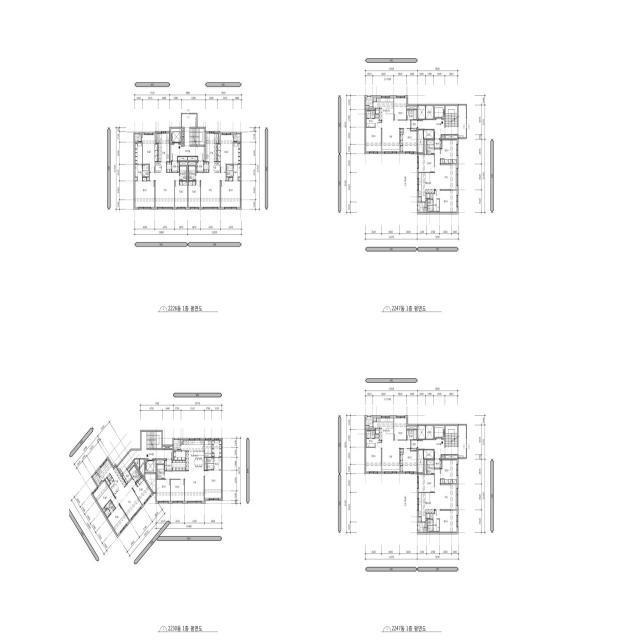space_balconi: (93, 472, 102, 486), (173, 439, 180, 450)
space_bedroom: (107, 504, 129, 535), (92, 481, 115, 509), (221, 177, 241, 208), (142, 134, 158, 172), (135, 177, 154, 208), (218, 134, 233, 172), (133, 477, 153, 505), (366, 438, 381, 472), (366, 118, 381, 152), (433, 511, 457, 532), (433, 191, 457, 212), (205, 470, 222, 499), (400, 449, 417, 472), (400, 129, 417, 152), (441, 460, 457, 483), (441, 140, 457, 163), (175, 181, 187, 208), (188, 181, 200, 208), (171, 480, 184, 502), (157, 480, 170, 502), (394, 417, 406, 440), (394, 97, 406, 120), (418, 475, 434, 492), (418, 155, 434, 172)
space_dressroom: (212, 439, 222, 457), (233, 143, 240, 164), (135, 143, 142, 164), (233, 165, 241, 181), (135, 165, 142, 181)
space_elevator: (171, 129, 181, 143), (145, 460, 156, 472), (434, 426, 444, 438), (434, 106, 444, 118)
space_elevator_hall: (171, 114, 205, 160), (118, 449, 172, 474), (418, 438, 457, 458), (418, 118, 457, 138)
space_front: (122, 470, 132, 484), (196, 161, 203, 172), (165, 460, 172, 471), (172, 161, 179, 172), (411, 440, 417, 450), (411, 120, 417, 130), (435, 460, 442, 468), (435, 140, 442, 148)
space_kitchen: (97, 459, 126, 497), (181, 439, 204, 471), (155, 132, 170, 173), (206, 132, 220, 173), (373, 417, 394, 440), (373, 97, 394, 120), (418, 493, 435, 521), (418, 173, 435, 201)
space_living_room: (112, 478, 142, 521), (165, 471, 205, 502), (196, 173, 226, 208), (150, 173, 179, 208), (382, 440, 410, 472), (382, 120, 410, 152), (435, 469, 457, 509), (435, 149, 457, 189)
space_other: (458, 425, 466, 458), (458, 105, 466, 138), (145, 474, 156, 492), (172, 461, 186, 470), (205, 440, 212, 457), (418, 450, 423, 472), (418, 130, 423, 152), (174, 451, 186, 460), (426, 426, 433, 439), (418, 426, 425, 439), (426, 106, 433, 119), (418, 106, 425, 119), (365, 417, 373, 428), (365, 97, 373, 108), (418, 522, 426, 532), (424, 450, 434, 458), (424, 130, 434, 138), (418, 202, 426, 212), (140, 459, 144, 477), (127, 462, 135, 471), (204, 162, 209, 172), (134, 459, 139, 469), (167, 162, 171, 172), (105, 478, 110, 485), (446, 455, 457, 458), (446, 135, 457, 138), (407, 426, 417, 429), (407, 106, 417, 109), (157, 460, 164, 464), (178, 157, 187, 160), (188, 157, 197, 160), (163, 446, 172, 449), (205, 458, 207, 470), (188, 162, 196, 165), (180, 162, 187, 165), (155, 134, 157, 143), (182, 137, 184, 145), (375, 114, 379, 118), (375, 434, 379, 438), (425, 460, 426, 474), (182, 129, 184, 136), (425, 140, 426, 154), (441, 455, 445, 458), (102, 508, 105, 512), (441, 135, 445, 138), (219, 134, 220, 143), (238, 177, 241, 180), (419, 517, 421, 521), (431, 514, 433, 518), (424, 528, 426, 532), (181, 440, 183, 444), (424, 208, 426, 212), (431, 194, 433, 198), (419, 197, 421, 201), (366, 426, 369, 428), (374, 418, 376, 421), (226, 177, 228, 180), (366, 106, 369, 108), (147, 177, 149, 180), (135, 177, 137, 180), (374, 98, 376, 101)
space_outdoor_room: (234, 134, 241, 142), (135, 134, 141, 142)
space_staircase: (141, 432, 162, 450), (190, 129, 205, 145), (446, 426, 457, 447), (446, 106, 457, 127)
space_toilet: (129, 466, 141, 483), (207, 458, 222, 470), (105, 500, 115, 517), (367, 430, 375, 447), (367, 110, 375, 127), (428, 519, 439, 531), (428, 199, 439, 211), (427, 460, 434, 474), (157, 465, 164, 479), (180, 166, 187, 180), (189, 166, 196, 180), (427, 140, 434, 154), (407, 430, 417, 439), (407, 110, 417, 119), (142, 171, 149, 177), (226, 165, 233, 171), (142, 165, 149, 170), (226, 171, 233, 176)
